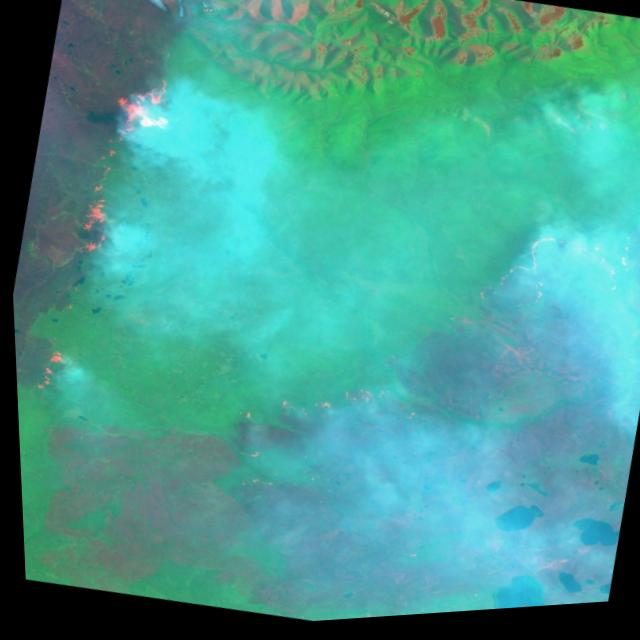fire: (13, 49, 213, 418), (201, 353, 438, 539), (453, 168, 640, 358)
